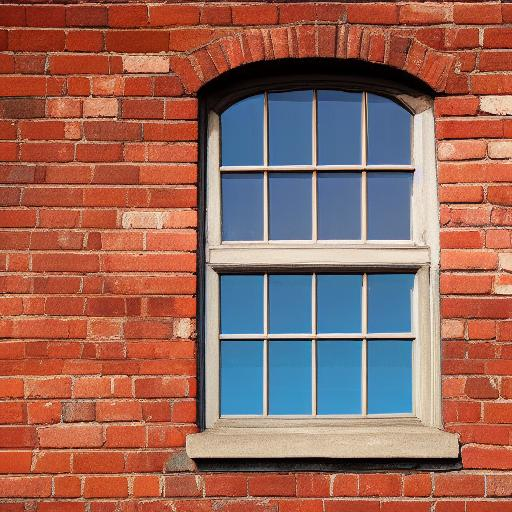Window: (184, 28, 413, 512)
